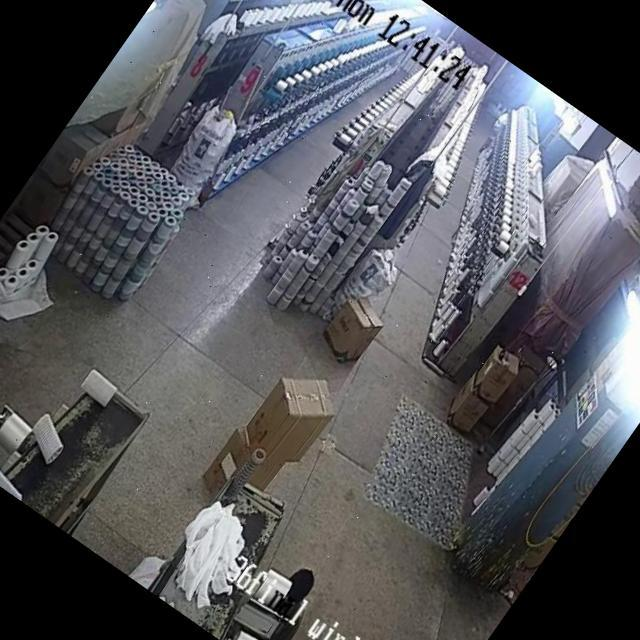person: (239, 562, 329, 640)
